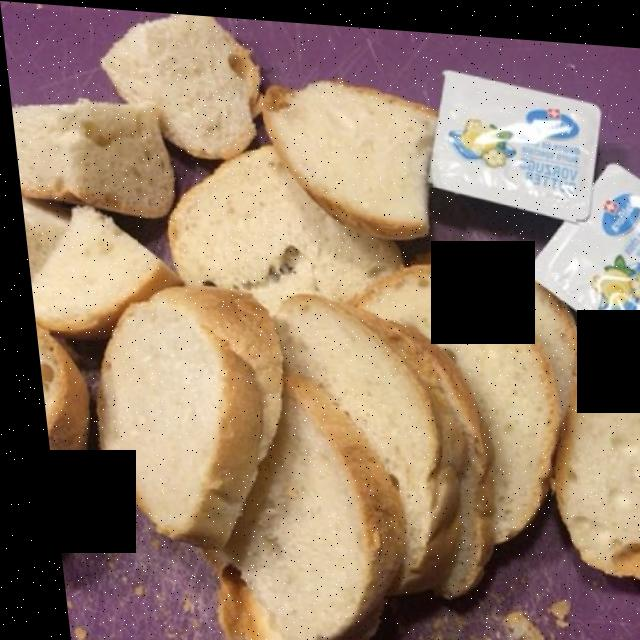bread-white: (15, 27, 640, 640)
butter: (424, 42, 640, 345)
